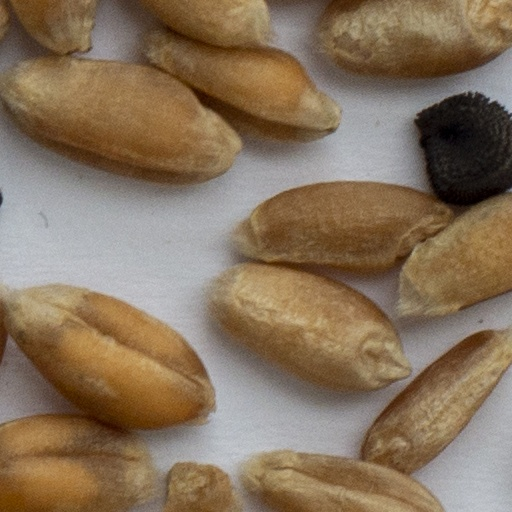Agrostemma-poly: (419, 94, 511, 204)
Wheat-grain-damaged-poly: (165, 462, 239, 511)
